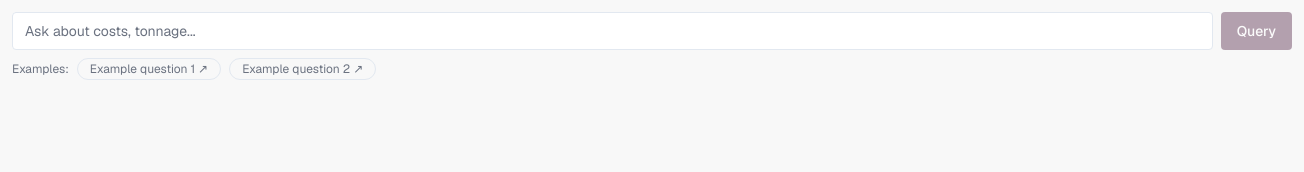
Test: QueryPanel › disables submit button while fetching (loading state)
Type "tonelaje" into the field with placeholder "Ask about costs, tonnage..." at (612, 31), box [12,12,1213,50]
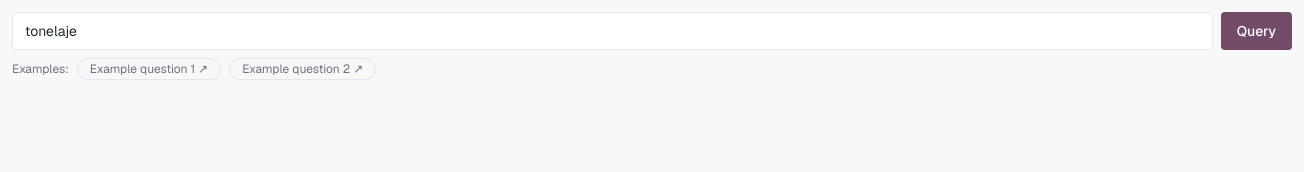
Click the button "Query" at (1256, 31), box [1221,12,1292,50]
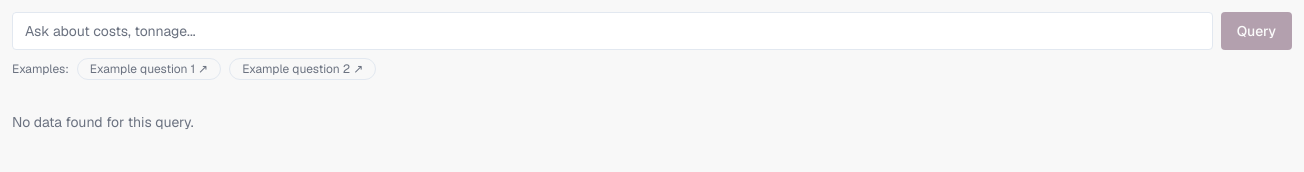
Now the button "Query" is disabled, box [1221,12,1292,50]
